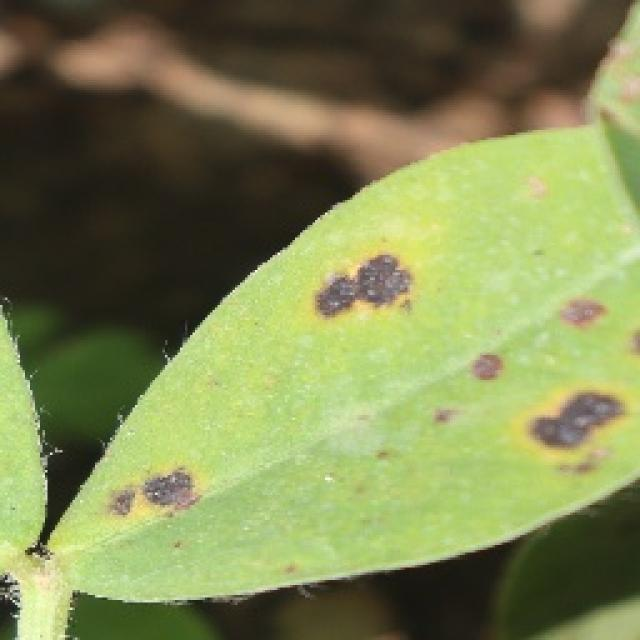Yellowish: (443, 255, 636, 471), (281, 208, 450, 372), (70, 428, 236, 558)
